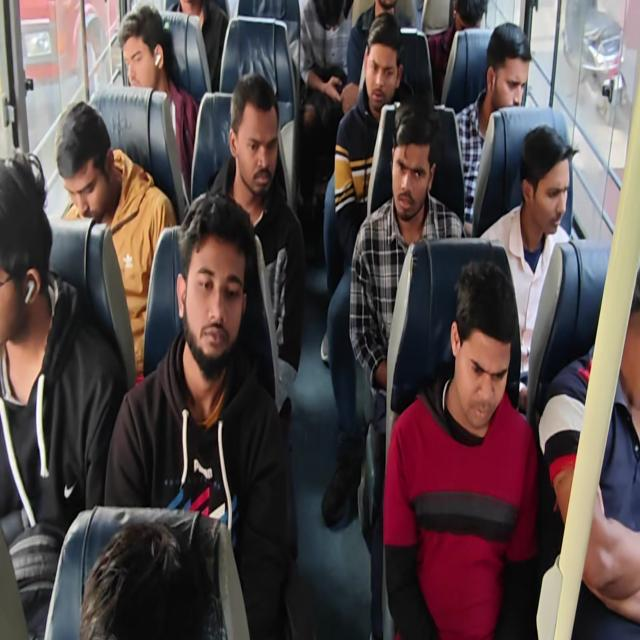person: (73, 506, 221, 640), (174, 212, 254, 379), (453, 271, 520, 453), (0, 175, 58, 361), (54, 118, 129, 225), (475, 16, 530, 130), (229, 93, 284, 193), (118, 17, 166, 112), (531, 122, 567, 245), (392, 136, 426, 228), (446, 0, 491, 54), (298, 0, 352, 45), (369, 31, 399, 100), (368, 0, 395, 12)
